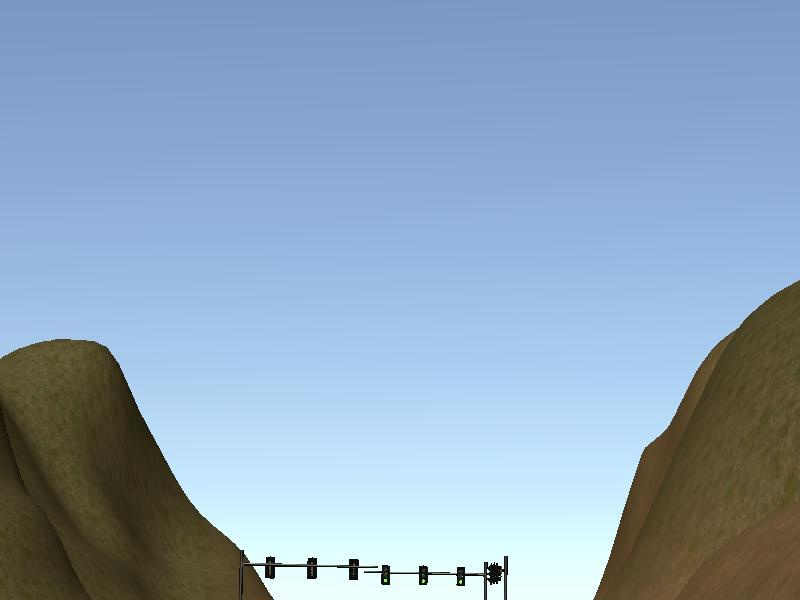green_light: (456, 568, 466, 585), (419, 566, 428, 584), (382, 566, 390, 584)
